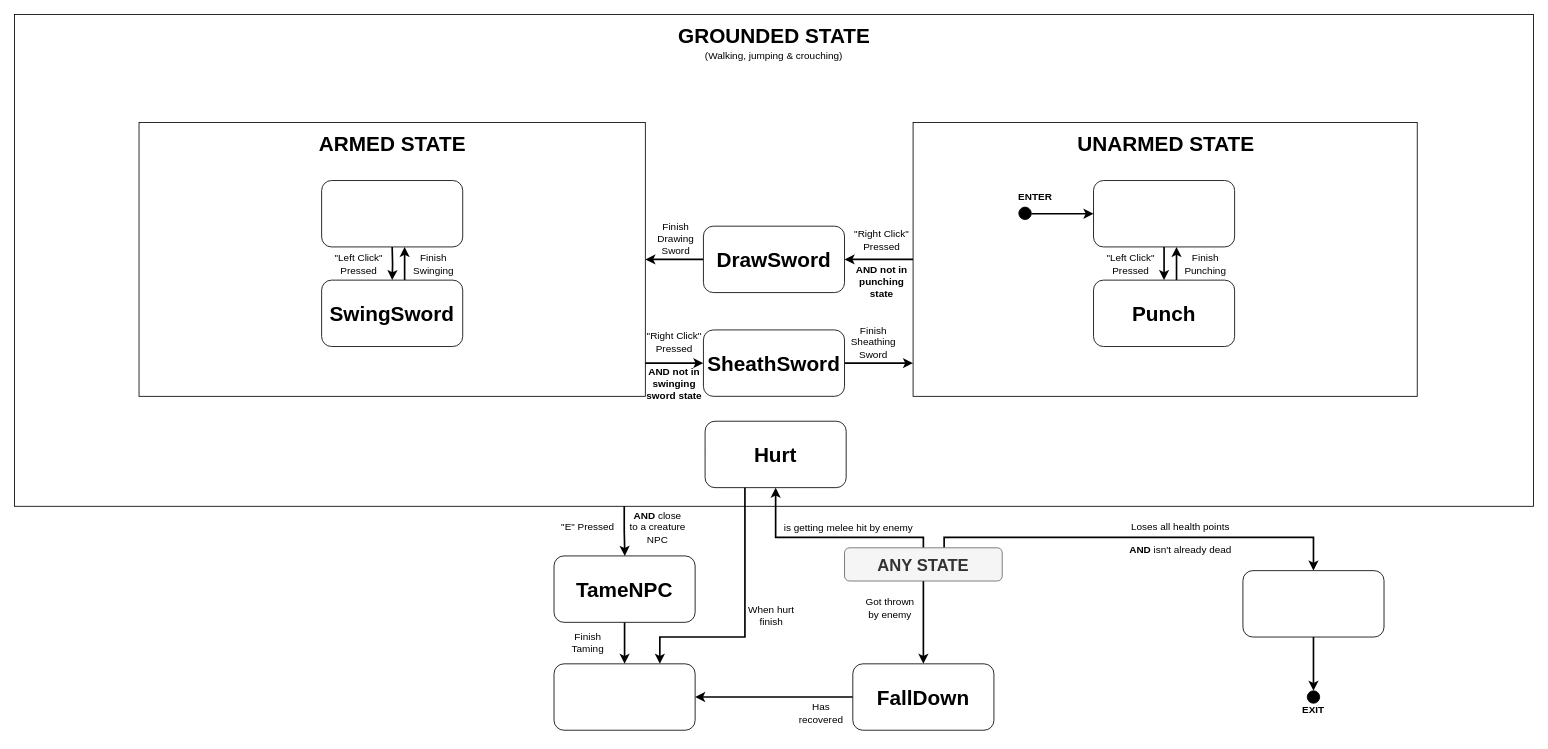
Some shapes in this 1548 by 749 pixel diagram are drawn without their labels. The box of each missing label's shape, as (x1, y1, x2, y2) in pixels:
ArmedIdle: (321, 180, 463, 247)
Die: (1242, 570, 1384, 637)
Previous State: (553, 663, 695, 730)
UnarmedIdle: (1093, 180, 1235, 247)
